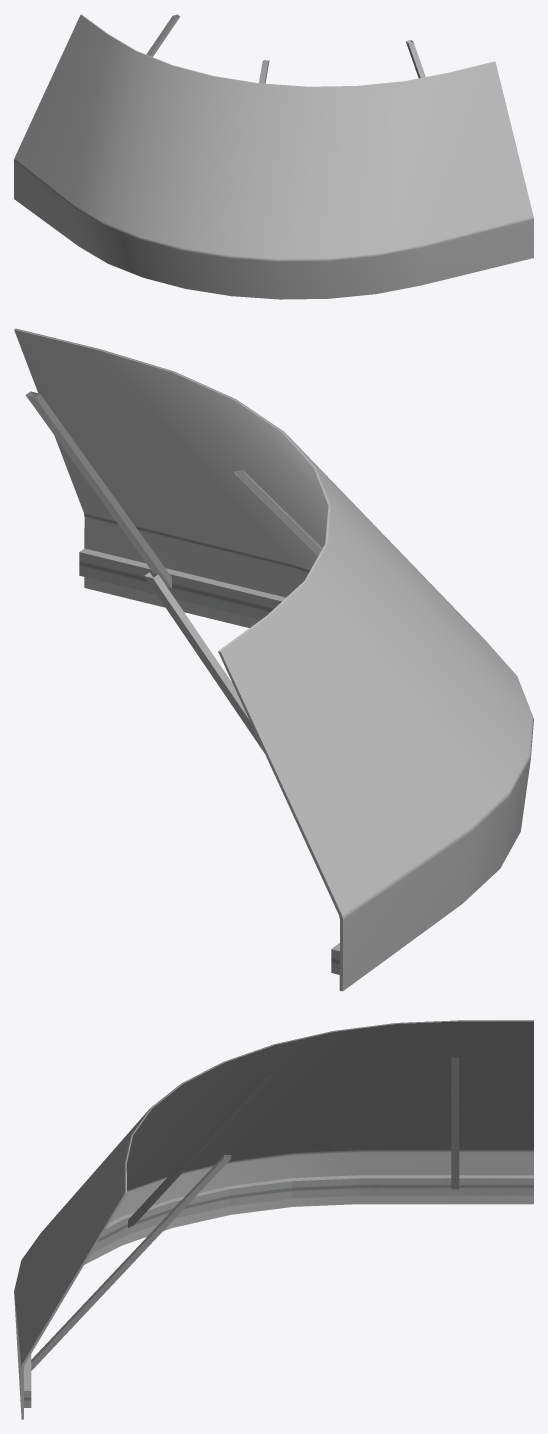
Rendered from MB_Canopy_Angle_A_01.fbx.
3 renders of one model, top to bottom at view 1: azimuth 30°, elevation 25°; view 2: azimuth 150°, elevation 25°; view 3: azimuth 270°, elevation 25°, orthographic. The views are drawn at different scales.
Visible parts, largest first — view 1: MB_Canopy_Angle_A_01; view 2: MB_Canopy_Angle_A_01; view 3: MB_Canopy_Angle_A_01.
Part boxes in pixels (bbox=[...]): MB_Canopy_Angle_A_01: bbox=[14, 14, 533, 299]; MB_Canopy_Angle_A_01: bbox=[14, 328, 533, 991]; MB_Canopy_Angle_A_01: bbox=[14, 1020, 533, 1419].
Size of the model in its own units: 250 by 123 by 250.
